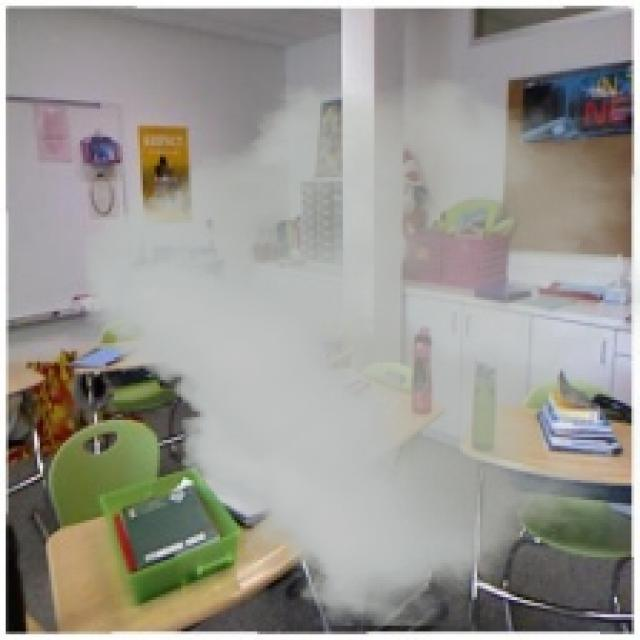smoke: (83, 77, 637, 629)
